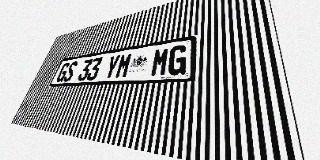3: (86, 57, 103, 81), (76, 59, 93, 81)
G: (167, 44, 188, 76), (55, 62, 71, 82)
M: (150, 47, 170, 77), (114, 53, 133, 79)
S: (62, 61, 79, 82)
Y: (103, 54, 121, 80)
